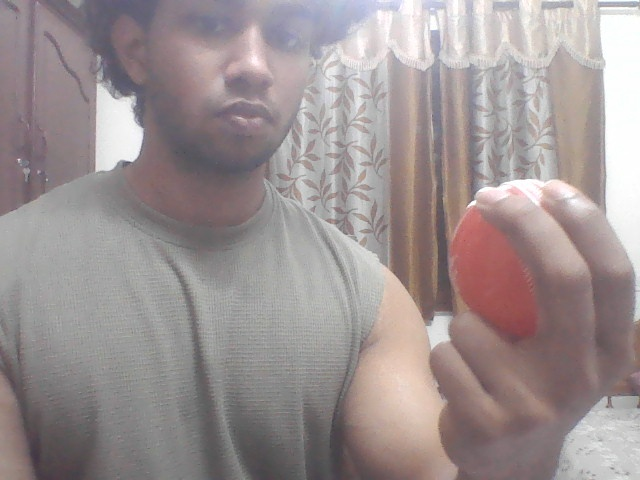cricket_ball: (447, 181, 556, 346)
